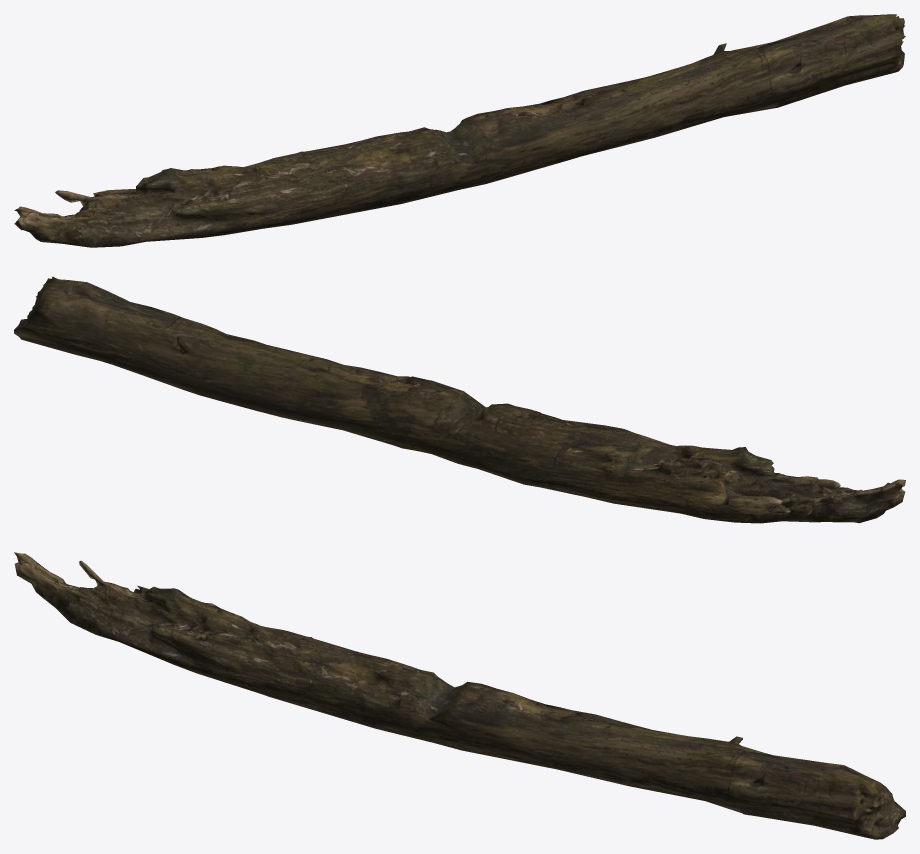
File: dead_tree_trunk.glb
3 views of the same model, one above another, from view 1: azimuth 30°, elevation 25°; view 2: azimuth 150°, elevation 25°; view 3: azimuth 330°, elevation 25° (orthographic).
Visible parts, largest first — view 1: dead_tree_trunk; view 2: dead_tree_trunk; view 3: dead_tree_trunk.
Part boxes in pixels (x1=…): dead_tree_trunk: x1=14, y1=14, x2=905, y2=247; dead_tree_trunk: x1=14, y1=276, x2=905, y2=523; dead_tree_trunk: x1=14, y1=552, x2=905, y2=839.
Size of the model in its own units: 3.05 by 0.2867 by 0.2763.
1 material, 1 textured.
